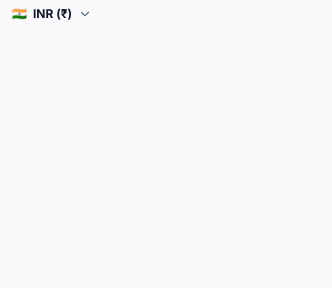
Test: CurrencySelect Component › calls onChange with clicked currency and closes menu
Note: Open menu
Step 1. Click the button "🇮🇳 INR (₹)" → (52, 14), box [12, 6, 92, 22]
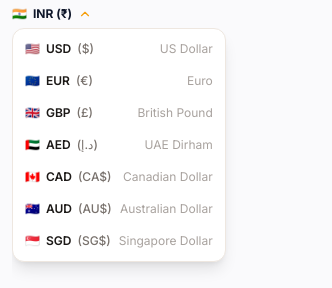
Note: Click USD
Step 2. Click the option "🇺🇸 USD ($) US Dollar" → (119, 49), box [13, 33, 225, 65]
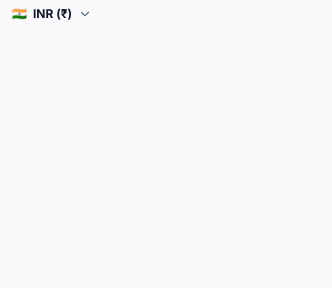
expect the list is gone: met
